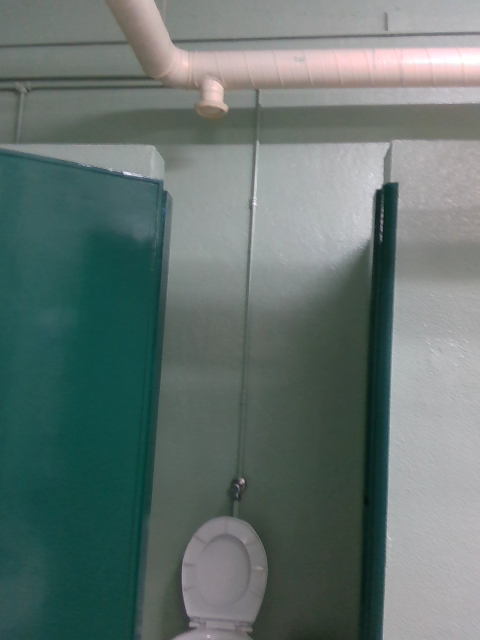open: (0, 121, 167, 639)
